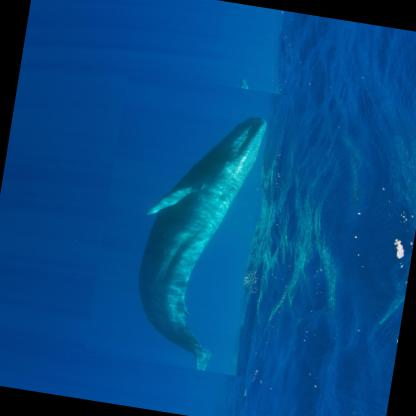blue_whale: (83, 69, 290, 377)
